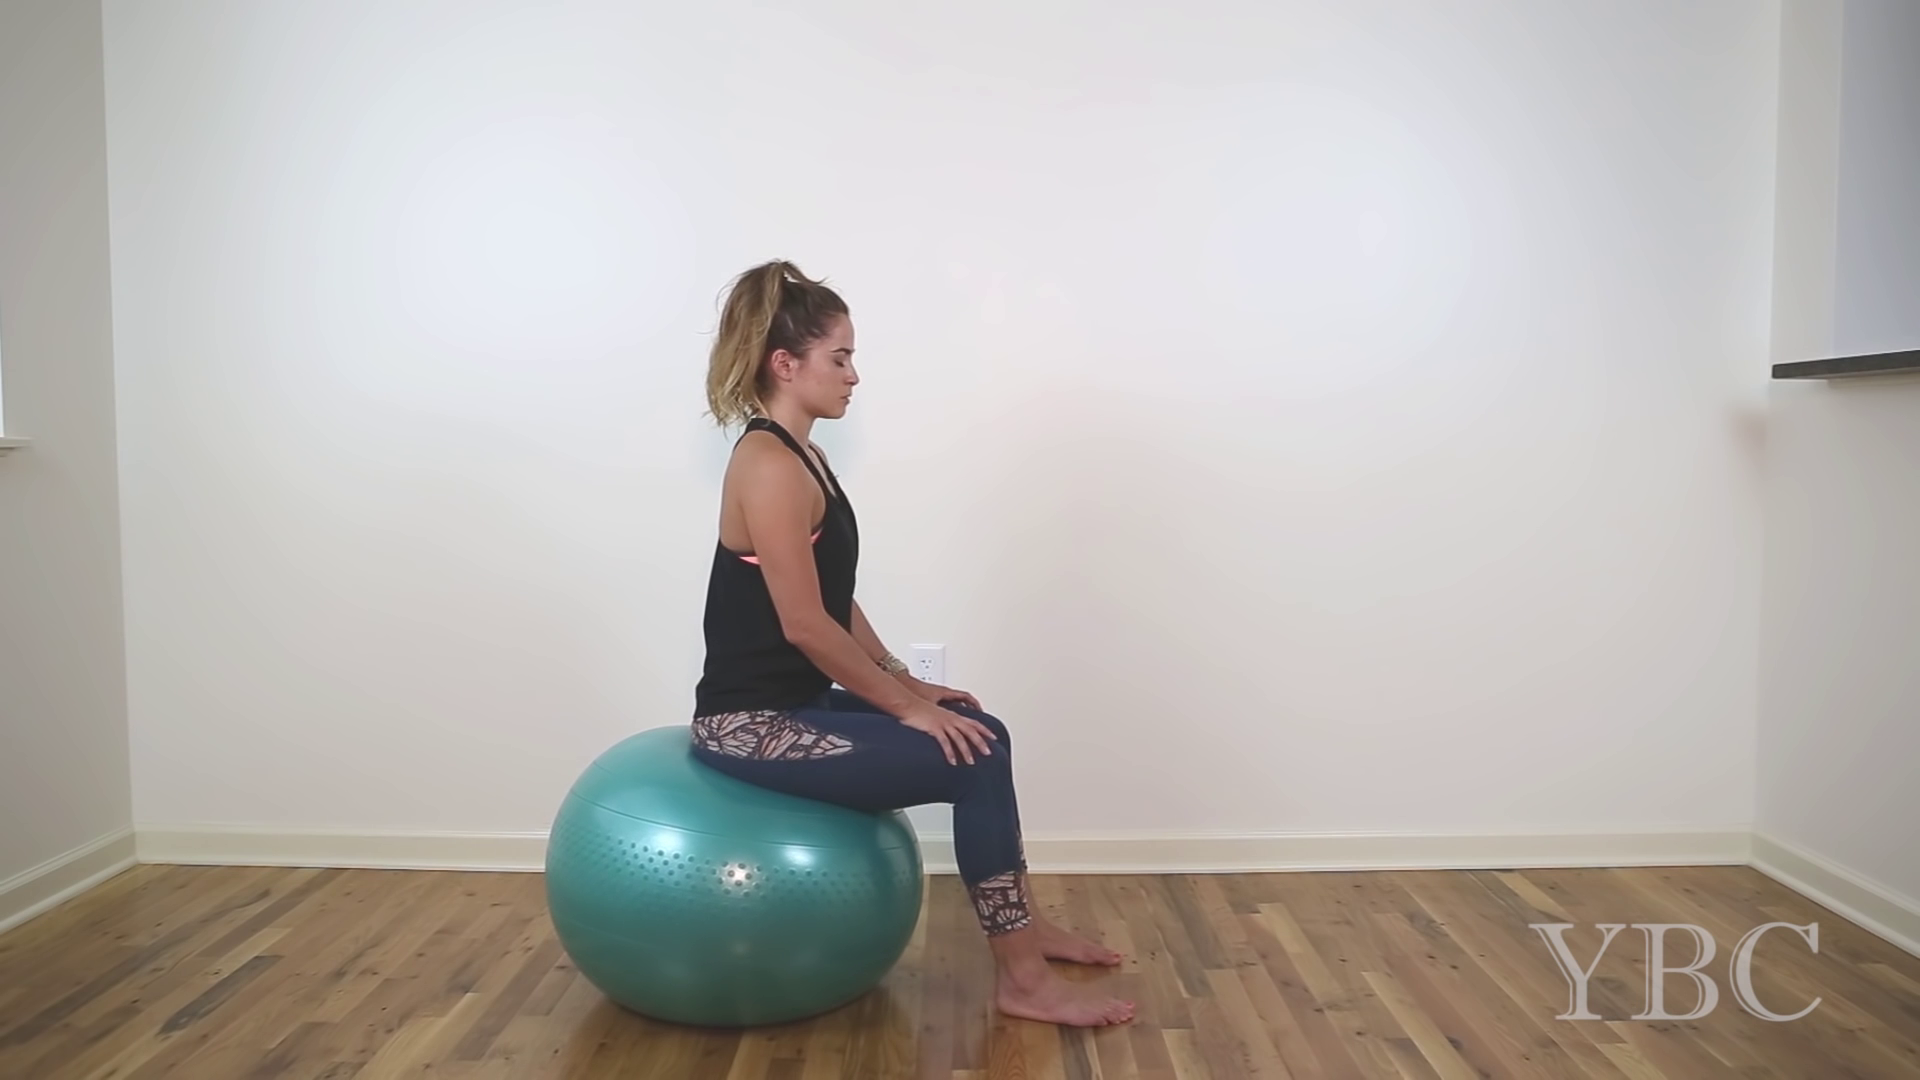yogaball: (530, 716, 930, 1040)
